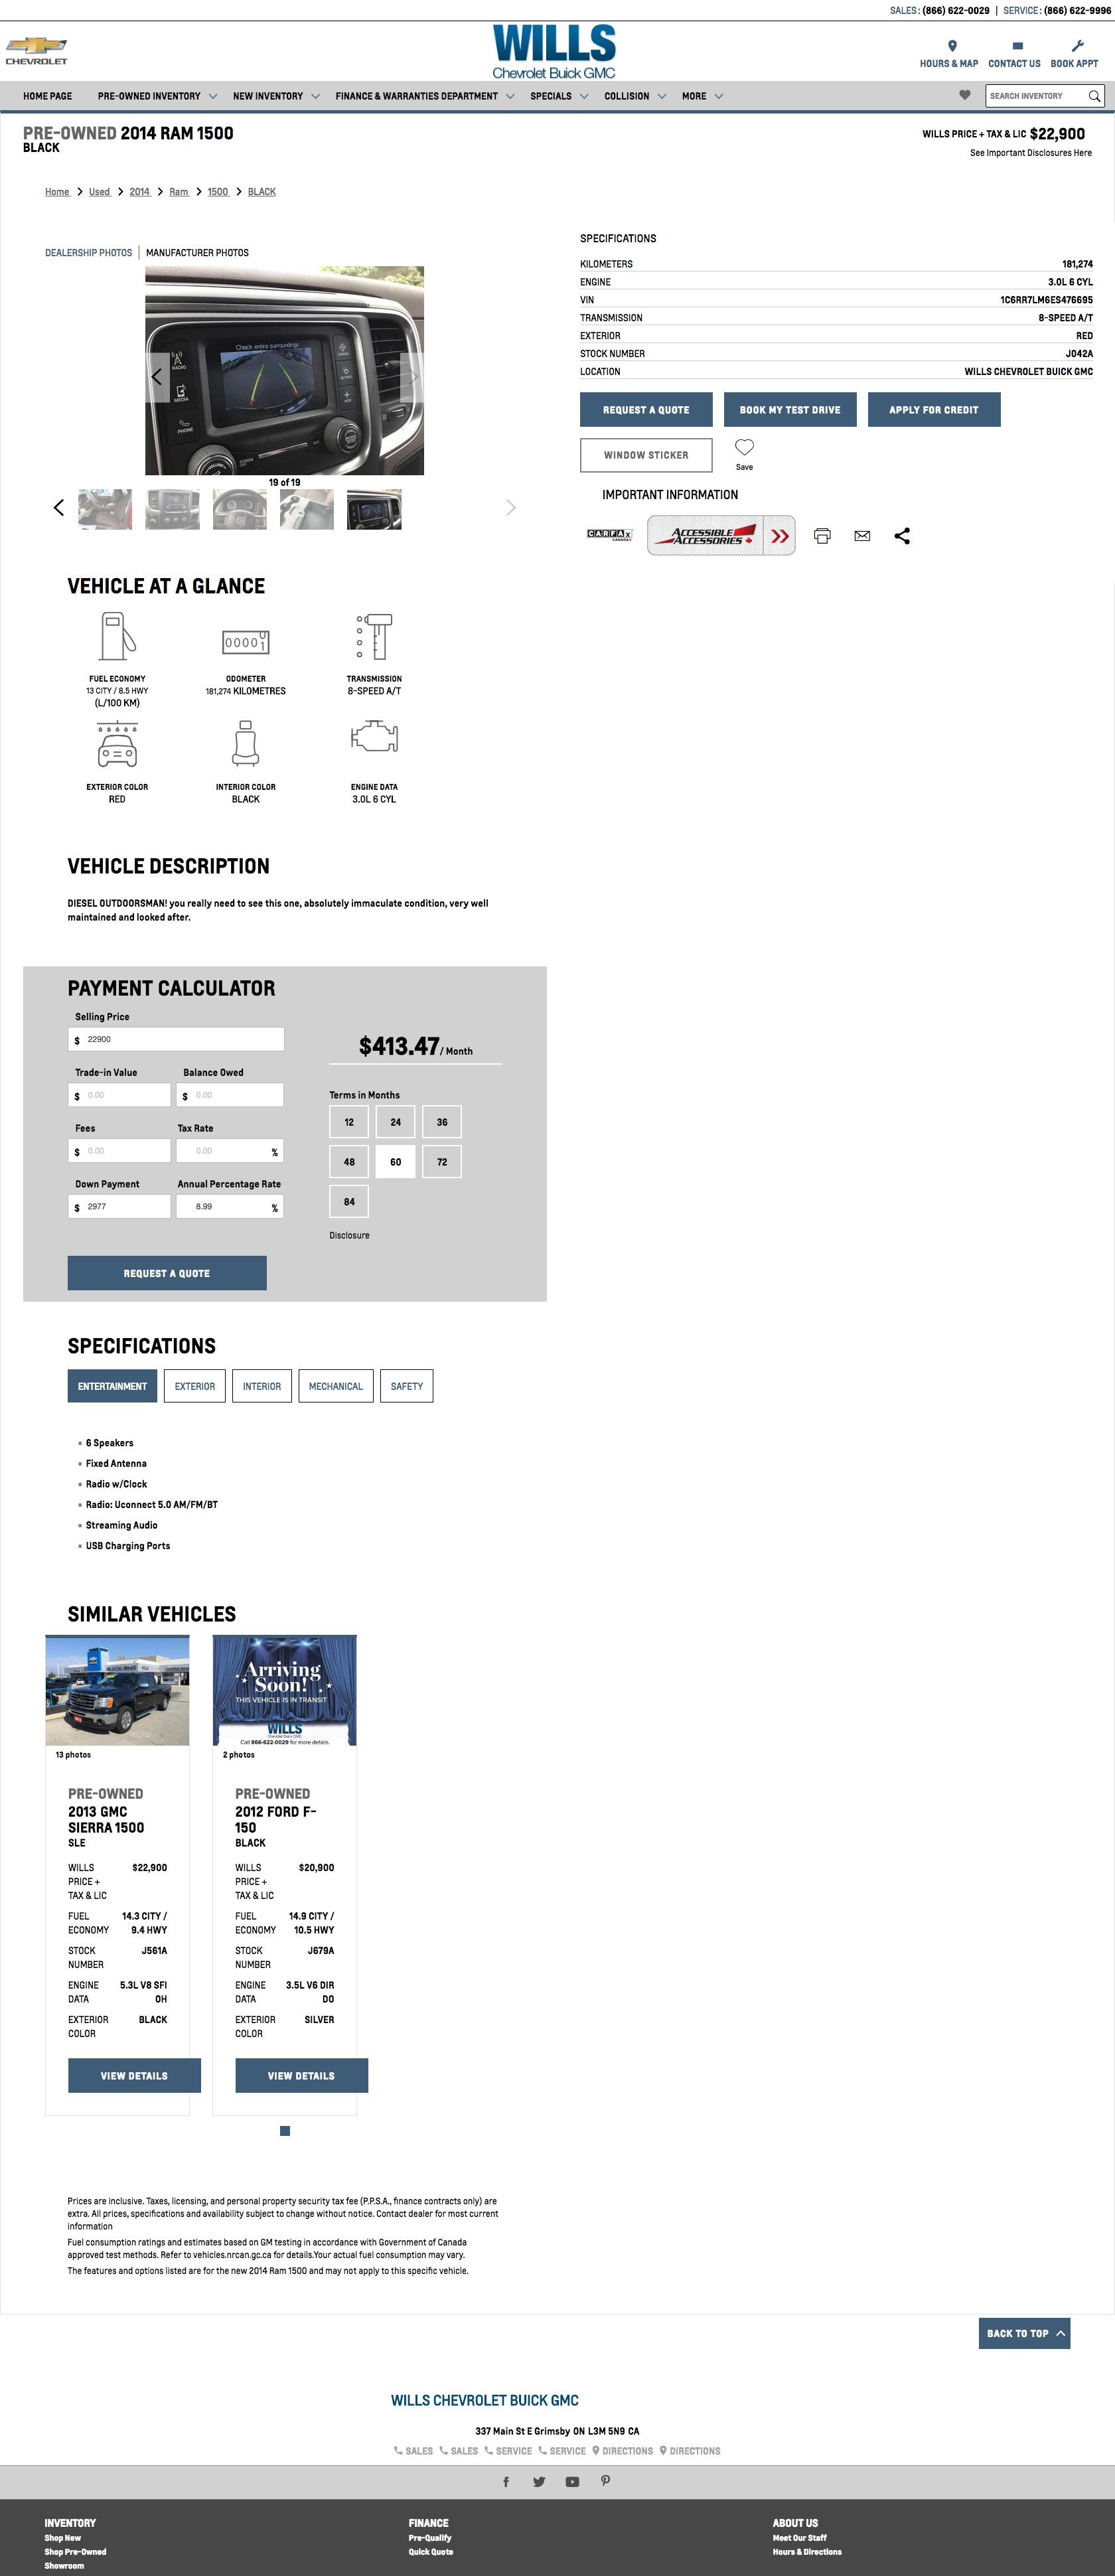car: (507, 499, 517, 517)
